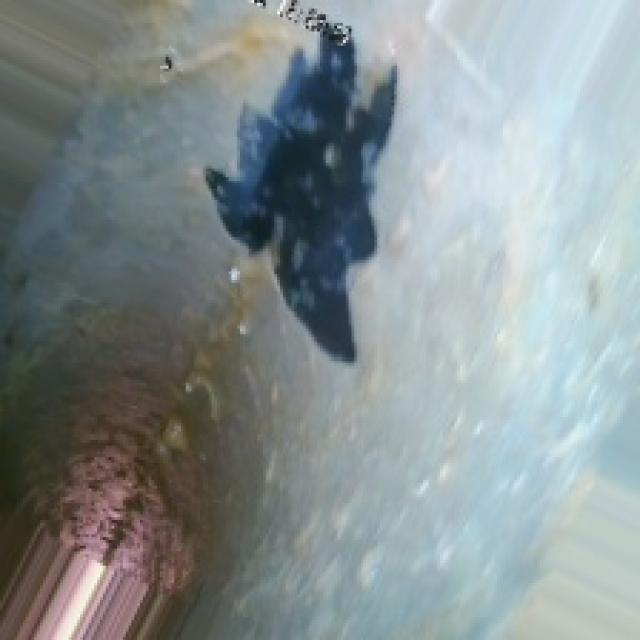pipe_surface_damage: (194, 6, 389, 368)
